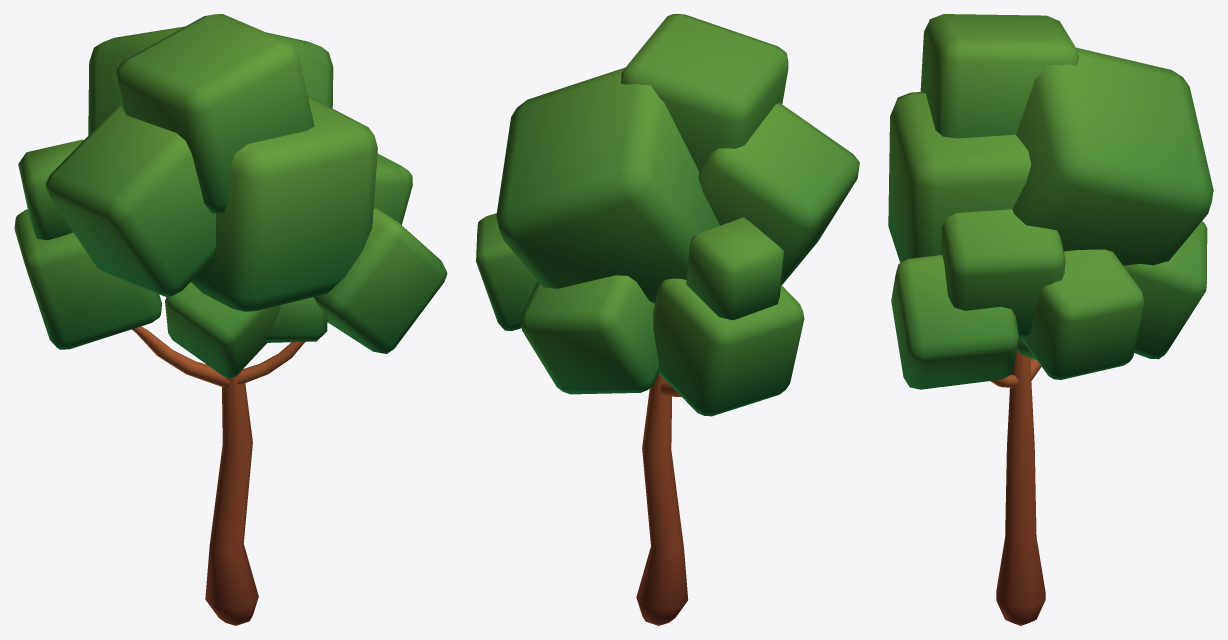
The model's file is Tree_2_D.glb.
3 views of the same model, side by side, from view 1: azimuth 30°, elevation 25°; view 2: azimuth 150°, elevation 25°; view 3: azimuth 270°, elevation 25° (orthographic). The views are drawn at different scales.
Size of the model in its own units: 4.74 by 8.09 by 4.03.
